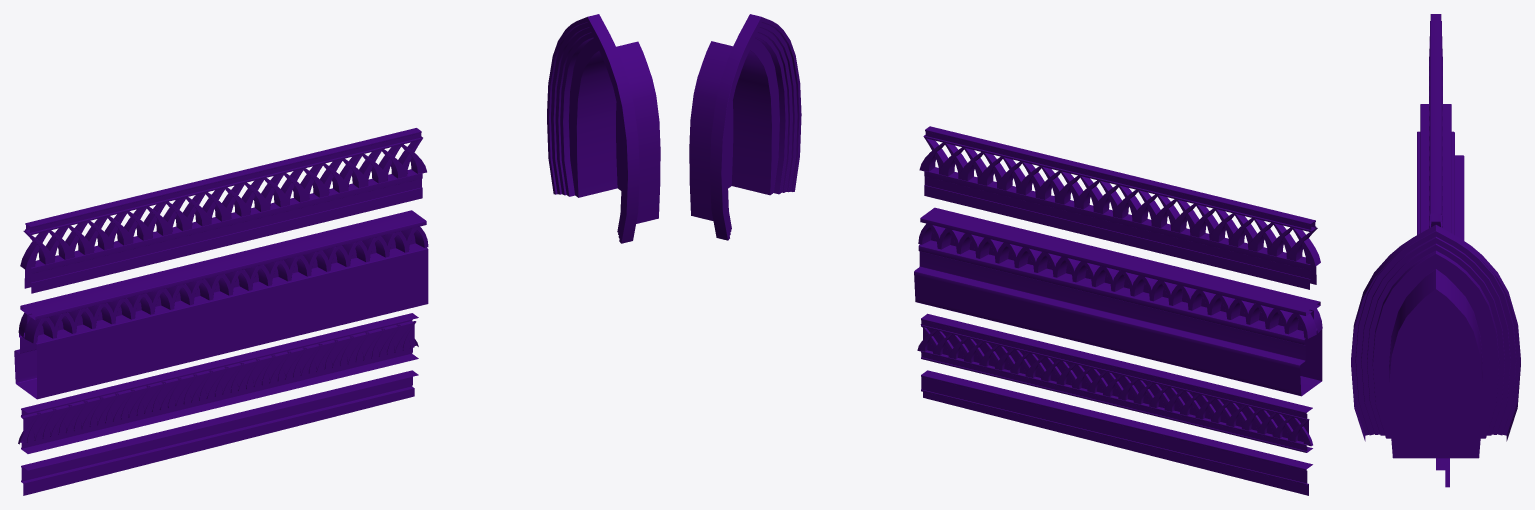
The model's file is Geonosis_City_Details01.fbx.
3 views of the same model, side by side, from view 1: azimuth 30°, elevation 25°; view 2: azimuth 150°, elevation 25°; view 3: azimuth 270°, elevation 25° (orthographic). The views are drawn at different scales.
Parts seen in each view (by area): view 1: Geonosis_TrimTop, Geonosis_Railing, Geonosis_Trim01, Geonosis_Door01, Geonosis_TrimSocket; view 2: Geonosis_TrimTop, Geonosis_Railing, Geonosis_Trim01, Geonosis_Door01, Geonosis_TrimSocket; view 3: Geonosis_Door01, Geonosis_TrimTop, Geonosis_Railing, Geonosis_TrimSocket.
Part boxes in pixels (x1=…): Geonosis_TrimTop: x1=14, y1=210, x2=428, y2=399; Geonosis_Railing: x1=20, y1=128, x2=426, y2=293; Geonosis_Trim01: x1=18, y1=313, x2=418, y2=453; Geonosis_Door01: x1=547, y1=14, x2=660, y2=243; Geonosis_TrimSocket: x1=21, y1=370, x2=418, y2=495; Geonosis_TrimTop: x1=914, y1=207, x2=1322, y2=396; Geonosis_Railing: x1=919, y1=126, x2=1320, y2=289; Geonosis_Trim01: x1=917, y1=313, x2=1312, y2=452; Geonosis_Door01: x1=689, y1=14, x2=801, y2=240; Geonosis_TrimSocket: x1=921, y1=370, x2=1312, y2=495; Geonosis_Door01: x1=1351, y1=225, x2=1520, y2=458; Geonosis_TrimTop: x1=1417, y1=104, x2=1464, y2=240; Geonosis_Railing: x1=1429, y1=14, x2=1442, y2=228; Geonosis_TrimSocket: x1=1436, y1=458, x2=1449, y2=487.
Size of the model in its own units: 787 by 422 by 180.
